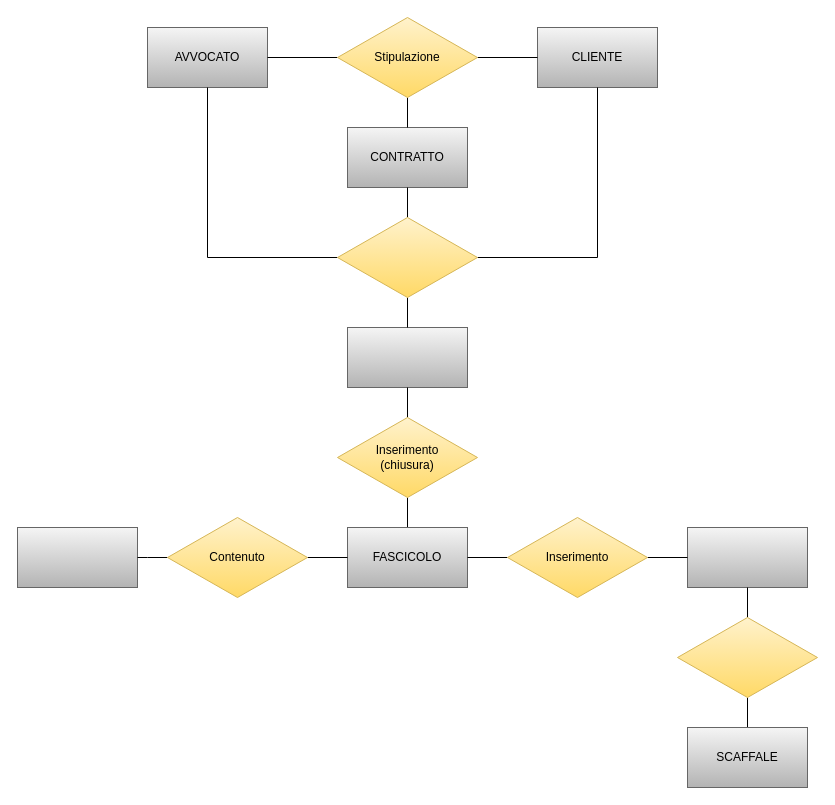
Image size: 835x805. Some labels were removed from this diagram. Here are the shapes that lost their labels. From the top down, the centre of each, then its label:
At pixel 407 257: "Pagamento".
At pixel 407 357: "FATTURA".
At pixel 77 557: "DOCUMENTO".
At pixel 747 557: "FALDONE".
At pixel 747 657: "Posizione".
